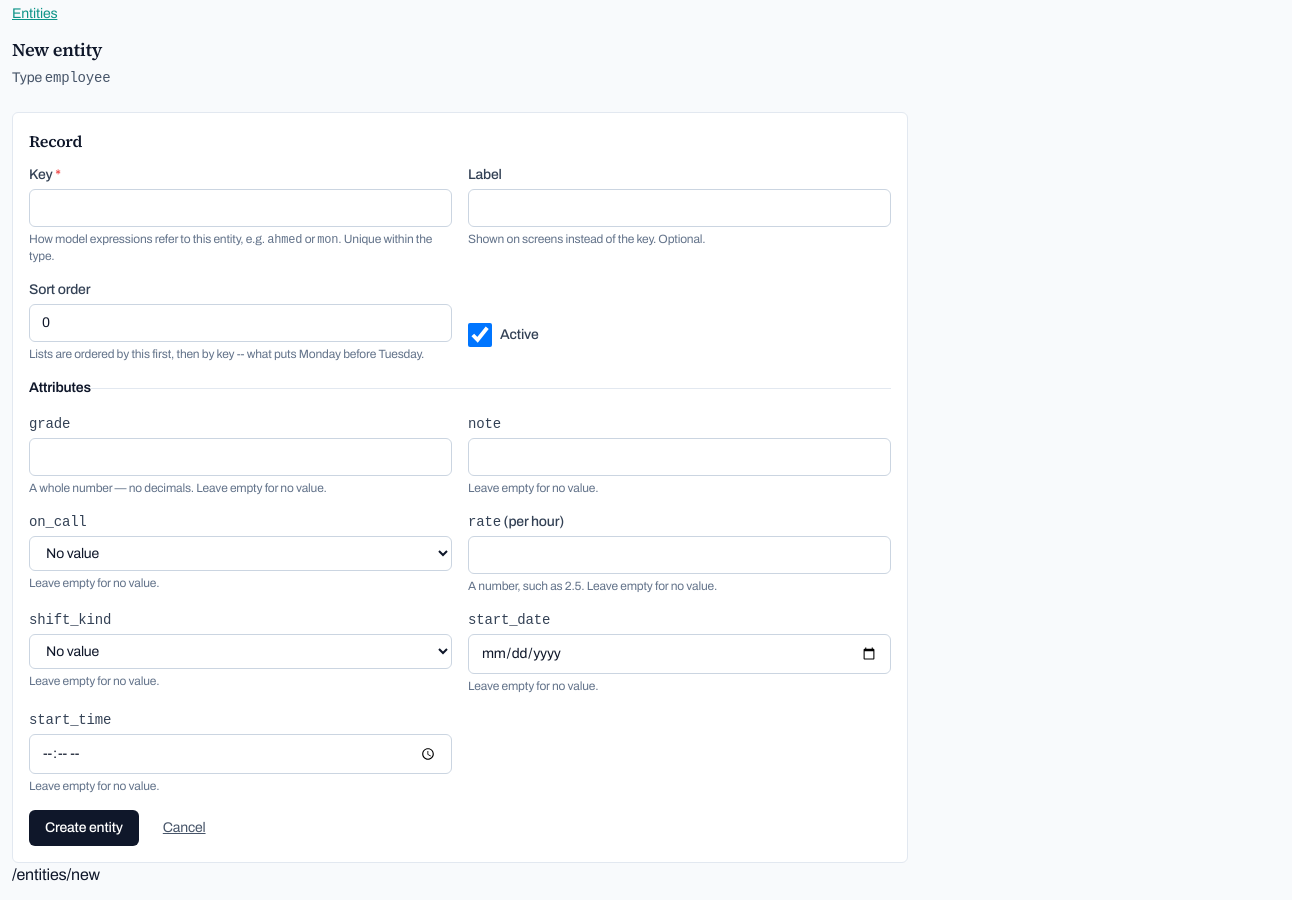
EntityRecord: a refusal from the server › marks the named attribute and announces the message in the live region
Expected: the field labelled "grade" is shown, x1=29 y1=438 x2=452 y2=476
Type "ahmed" into the field labelled "Key *" at (240, 208), box x1=29 y1=189 x2=452 y2=227
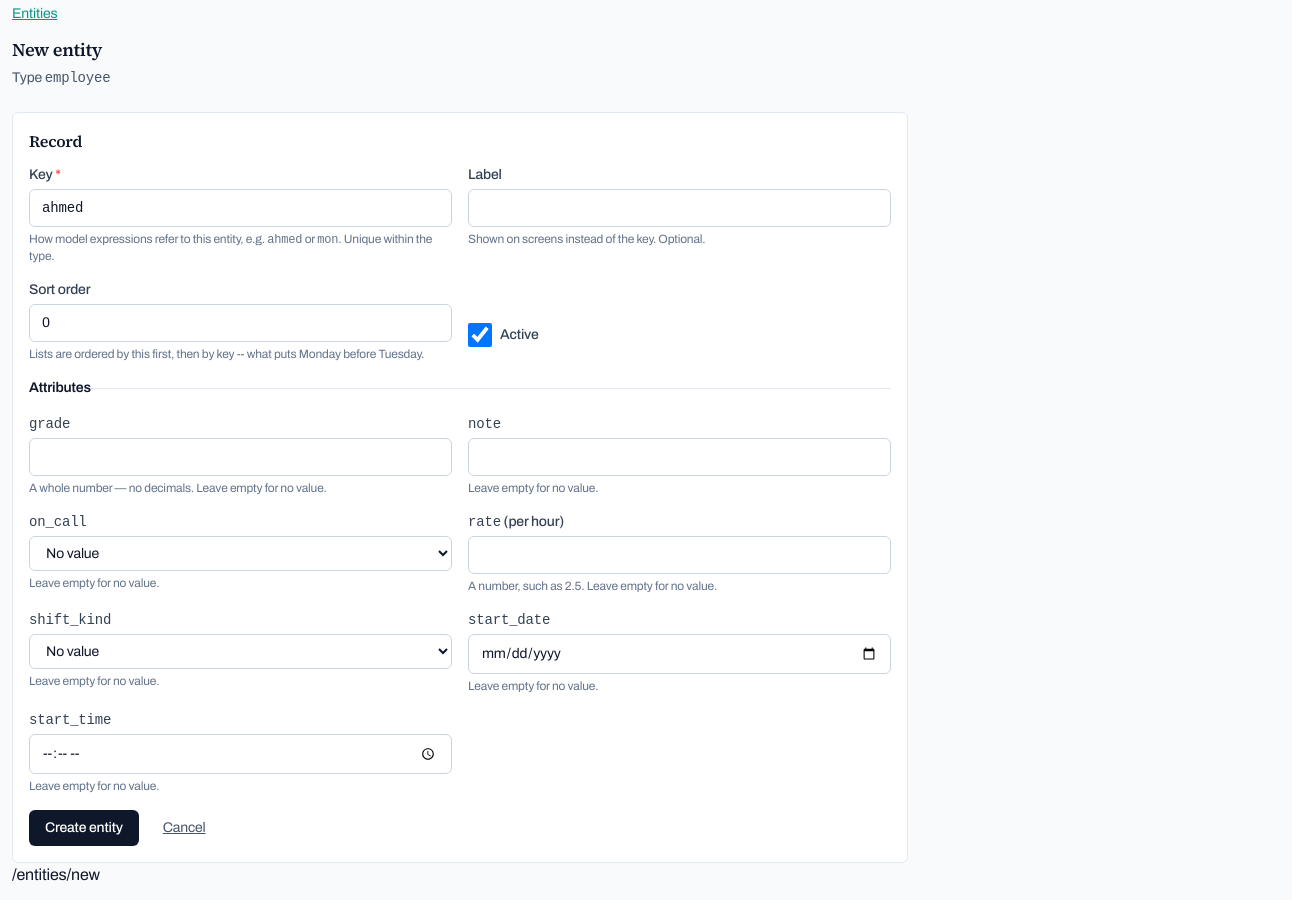
Click the button "Create entity" at (84, 828), box x1=29 y1=810 x2=139 y2=846
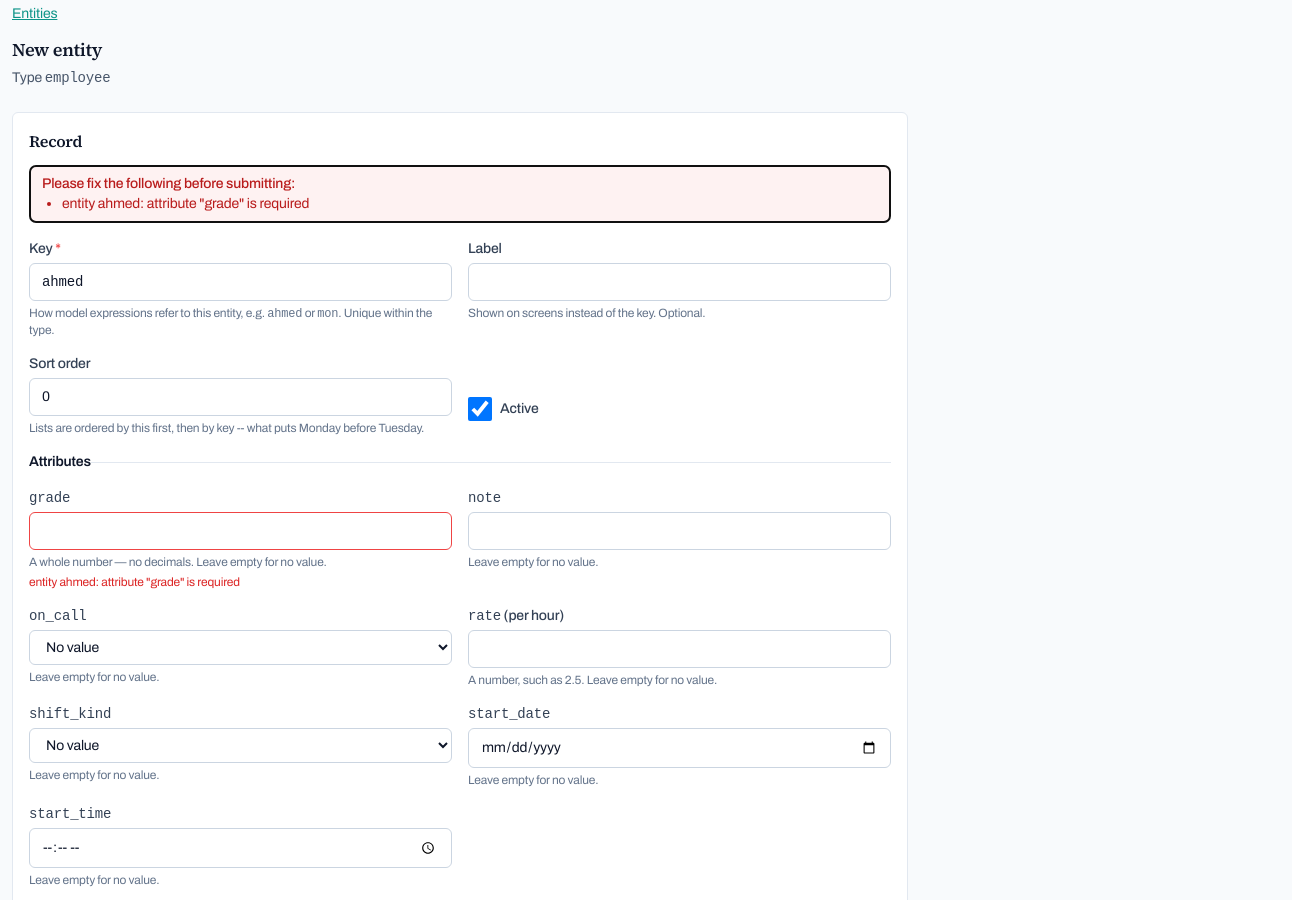
Expected: the message with test id "form-errors" shows "attribute \"grade\" is required", x1=62 y1=196 x2=309 y2=211
